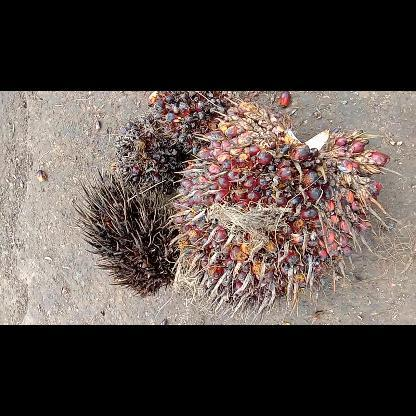Janjang kosong: (70, 164, 180, 302)
TBS abnormal: (112, 114, 190, 198), (144, 91, 233, 157)
TBS masak: (171, 100, 393, 320)
